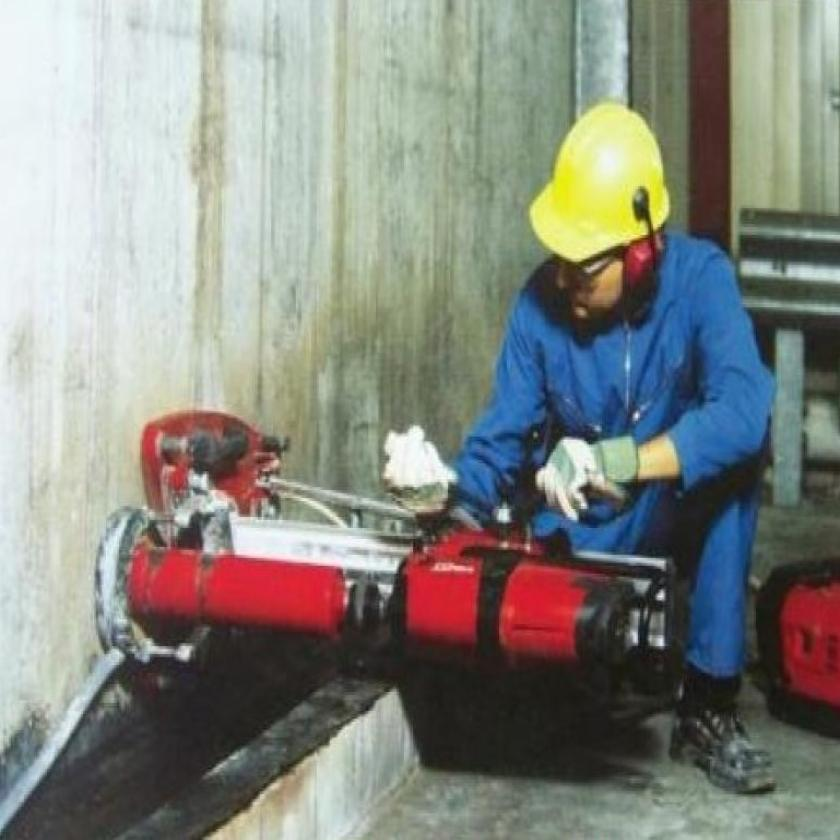Con_casco: (524, 91, 673, 336)
